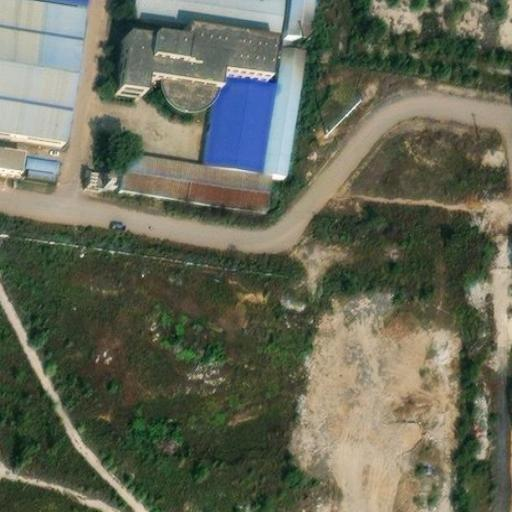building: (89, 143, 272, 207), (127, 13, 283, 80), (207, 67, 276, 163), (263, 33, 307, 166), (162, 66, 227, 103), (23, 151, 63, 176)
